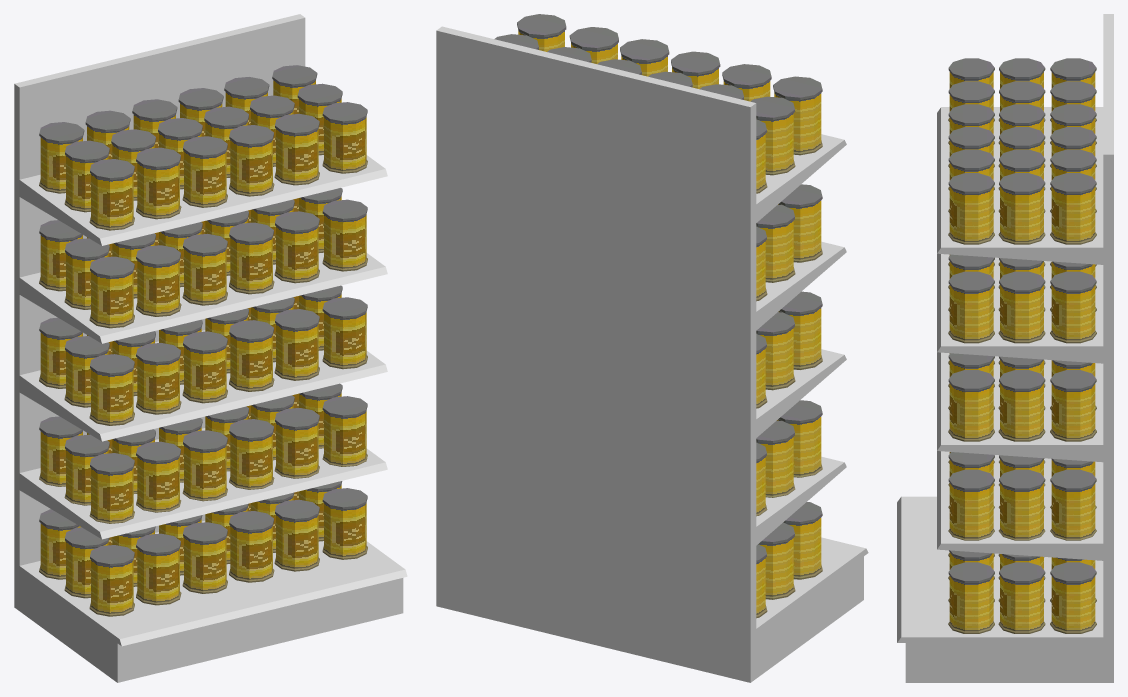
The model's file is CanAisleUnityRe.fbx.
3 renders of one model, left to right at view 1: azimuth 30°, elevation 25°; view 2: azimuth 150°, elevation 25°; view 3: azimuth 270°, elevation 25°, orthographic. The views are drawn at different scales.
Parts seen in each view (by area): view 1: Shelf; view 2: Shelf; view 3: Shelf.
Part boxes in pixels (x1,y1,x2,y2): Shelf: (14, 14, 407, 682); Shelf: (436, 14, 868, 682); Shelf: (897, 14, 1113, 682).
Size of the model in its own units: 400 by 700 by 260.
